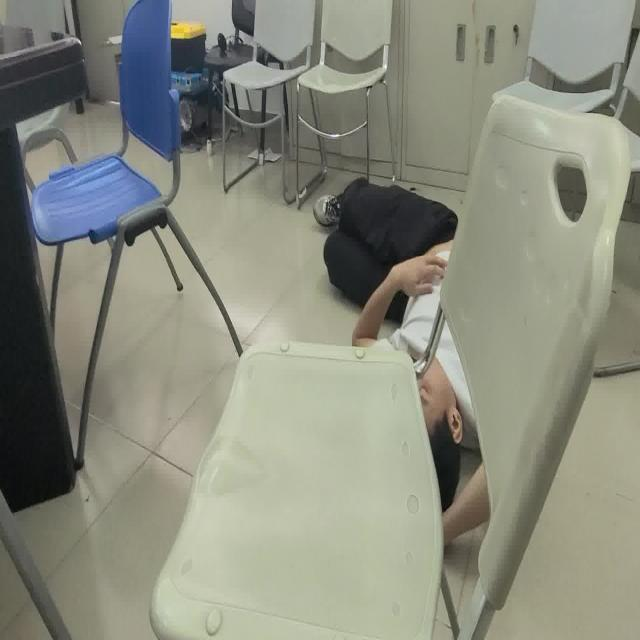Fall-Detected: (310, 168, 491, 510)
